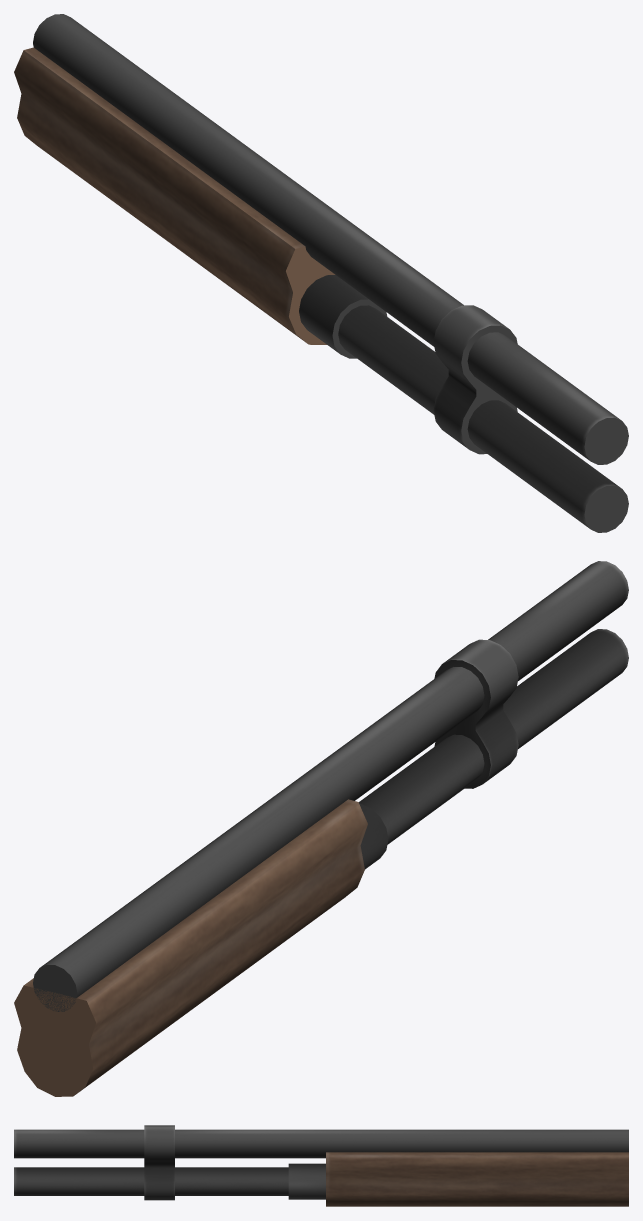
Rendered from BgMD_Shotgun.fbx.
The picture shows the model from 3 angles, top to bottom: view 1: azimuth 30°, elevation 25°; view 2: azimuth 150°, elevation 25°; view 3: azimuth 270°, elevation 25°; orthographic projection. The views are drawn at different scales.
Visible parts, largest first — view 1: BgMD_Shotgun; view 2: BgMD_Shotgun; view 3: BgMD_Shotgun.
Part boxes in pixels (bbox=[...]): BgMD_Shotgun: bbox=[14, 14, 628, 532]; BgMD_Shotgun: bbox=[14, 561, 628, 1096]; BgMD_Shotgun: bbox=[14, 1125, 628, 1206].
Size of the model in its own units: 2.58 by 4.16 by 30.
Materials: 1 (1 with a texture image).
